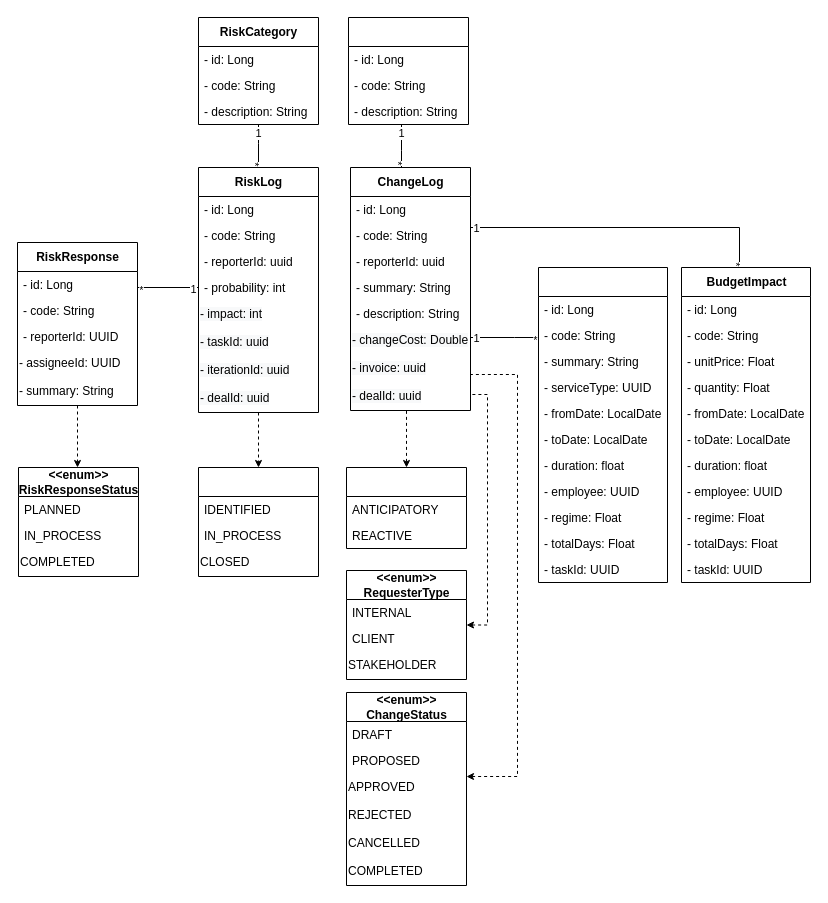
The diagram is 828 pixels wide and 903 high, and some of its shapes have lost their labels. Each missing label, with the box of its shape:
<<enum>> ChangeType: (346, 466, 466, 548)
<<enum>> RiskStatus: (198, 466, 318, 576)
ChangeCategory: (348, 16, 468, 124)
TimeImpact: (538, 266, 668, 582)
